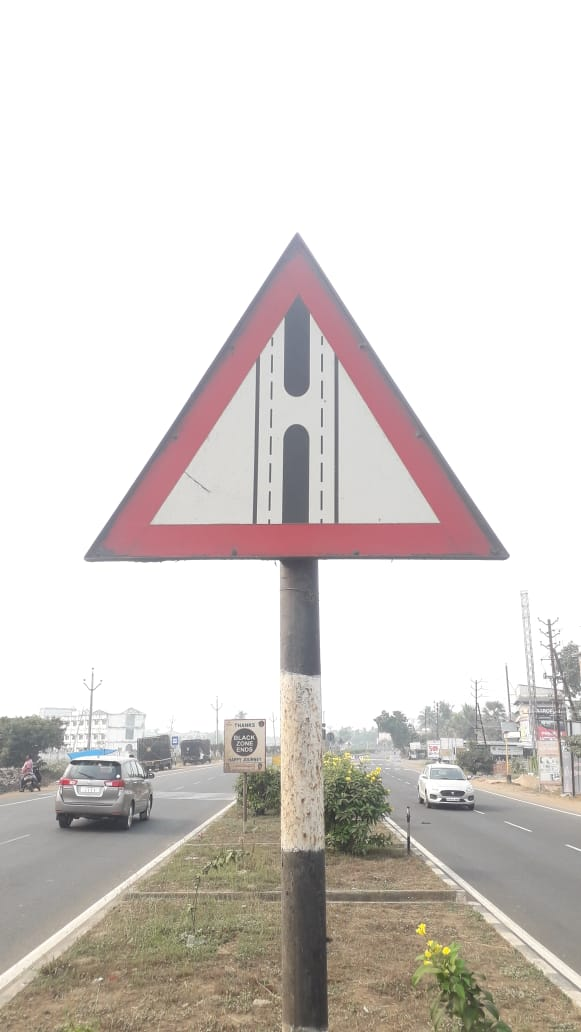highway go straight: (70, 215, 540, 641)
